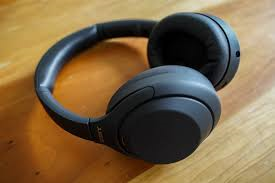headphone: (25, 7, 241, 165)
